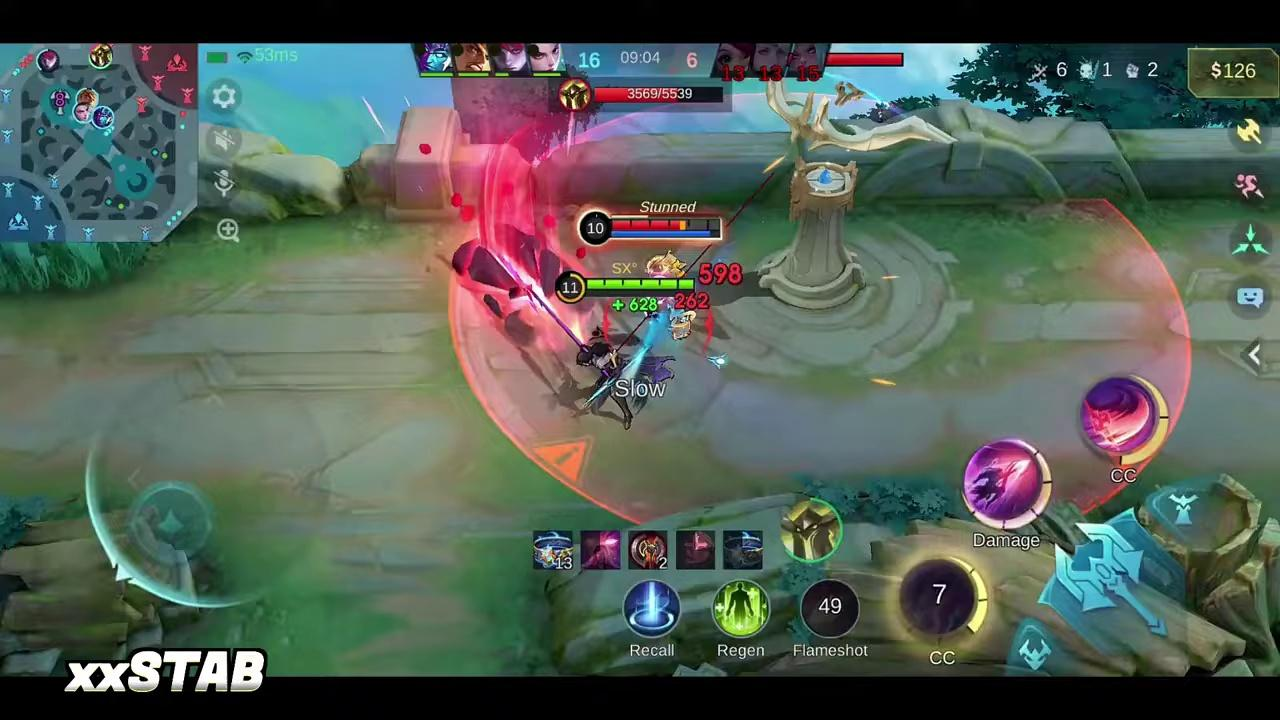Adc_Aliado: (73, 101, 96, 124)
Arbusto: (4, 242, 153, 291)
Exp_Aliado: (90, 55, 109, 70)
Exp_Enemigo: (89, 44, 114, 65)
HP_Enemigo: (611, 220, 722, 233)
HP_Heroe_Principal: (588, 278, 692, 288)
Jungla_Aliado: (38, 48, 63, 72)
Mana: (610, 232, 726, 240)
Mid_Aliado: (92, 107, 117, 129)
Minimapa: (0, 48, 191, 243)
Roamer_Aliado: (77, 86, 99, 108)
Skill2: (961, 441, 1048, 530)
Torre_Enemiga: (758, 74, 924, 303)
skill3: (1080, 374, 1166, 465)
